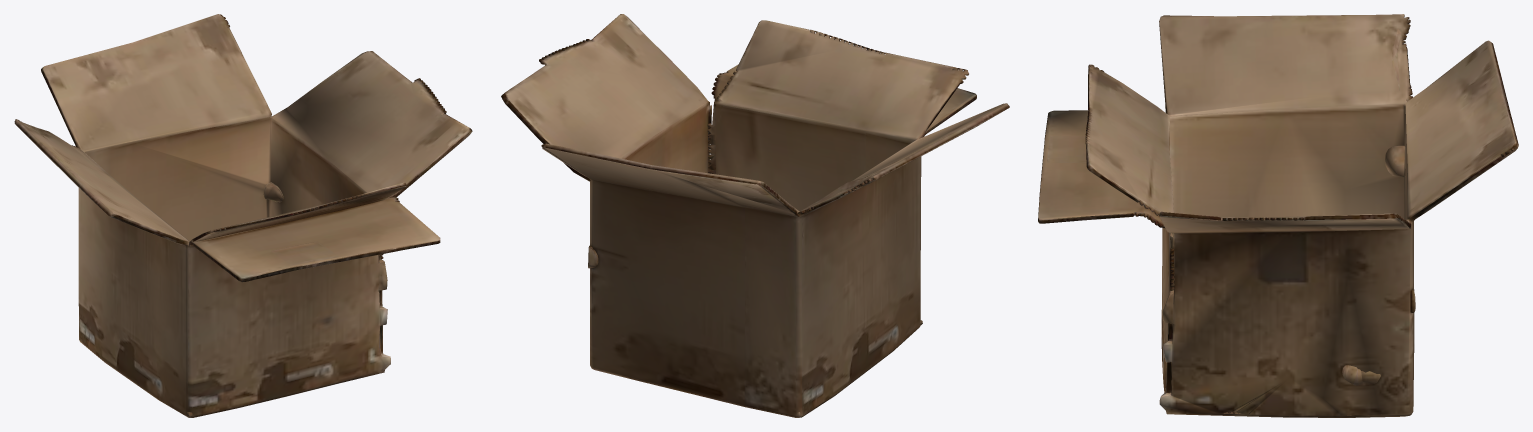
The model's file is prop_box_open.glb.
3 views of the same model, side by side, from view 1: azimuth 30°, elevation 25°; view 2: azimuth 150°, elevation 25°; view 3: azimuth 270°, elevation 25° (orthographic). The views are drawn at different scales.
Visible parts, largest first — view 1: tripo_node_ea9658ba-4c97-4e30-ae79-5de7a0c3876d; view 2: tripo_node_ea9658ba-4c97-4e30-ae79-5de7a0c3876d; view 3: tripo_node_ea9658ba-4c97-4e30-ae79-5de7a0c3876d.
Part boxes in pixels (box(x1,y1,x2,y2)): tripo_node_ea9658ba-4c97-4e30-ae79-5de7a0c3876d: box(14, 14, 472, 417); tripo_node_ea9658ba-4c97-4e30-ae79-5de7a0c3876d: box(501, 14, 1009, 417); tripo_node_ea9658ba-4c97-4e30-ae79-5de7a0c3876d: box(1038, 14, 1518, 417).
Size of the model in its own units: 0.4447 by 0.2847 by 0.45.
1 material, 1 textured.
